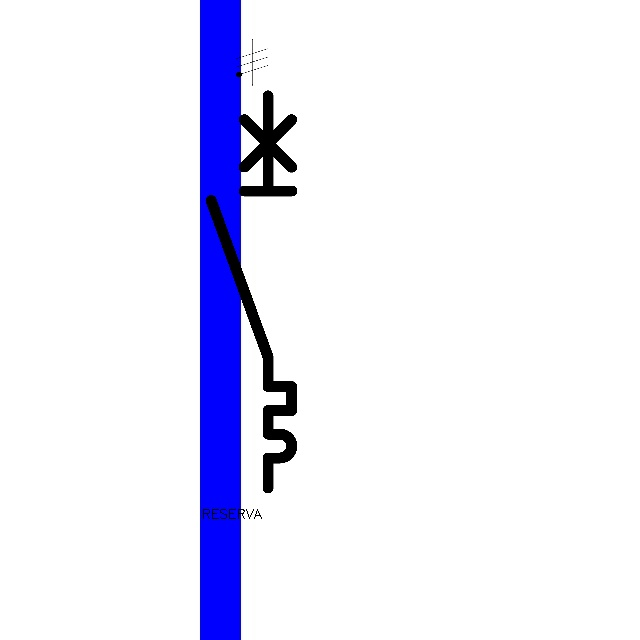interruptor_termomagnetico: (201, 85, 302, 497)
